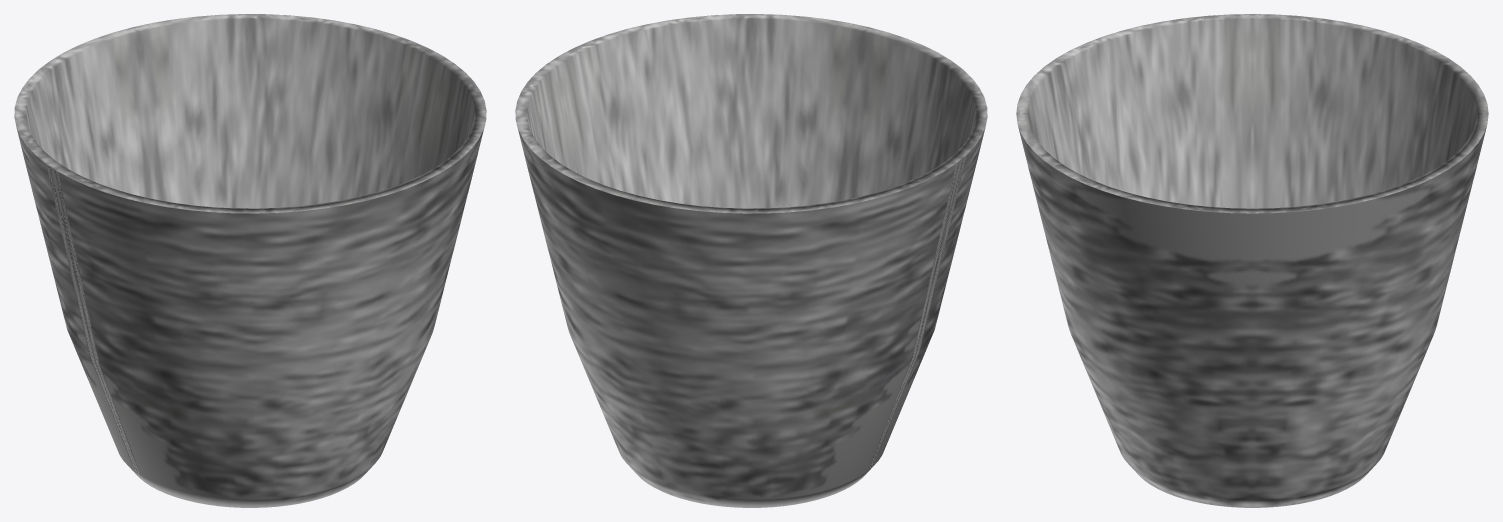
The model's file is EST-06.glb.
3 renders of one model, left to right at view 1: azimuth 30°, elevation 25°; view 2: azimuth 150°, elevation 25°; view 3: azimuth 270°, elevation 25°, orthographic.
Bounding box in the file's own units: 0.15 × 0.12 × 0.15.
Materials: 2 (2 with a texture image).
